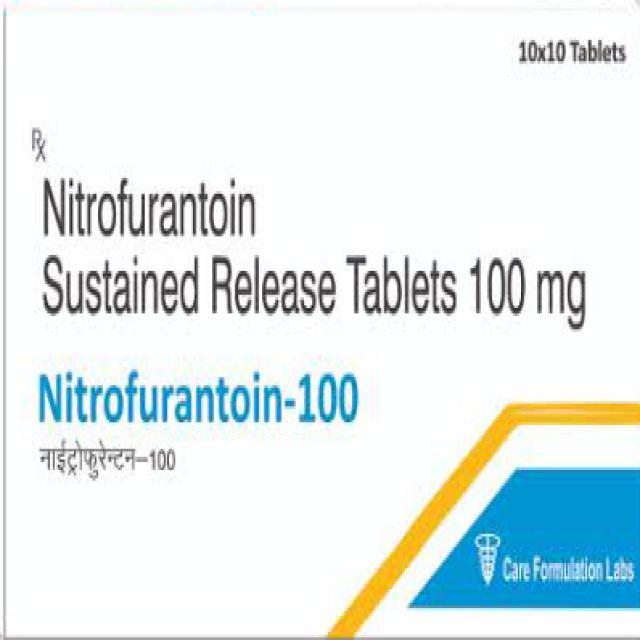drug-name: (34, 368, 359, 428)
